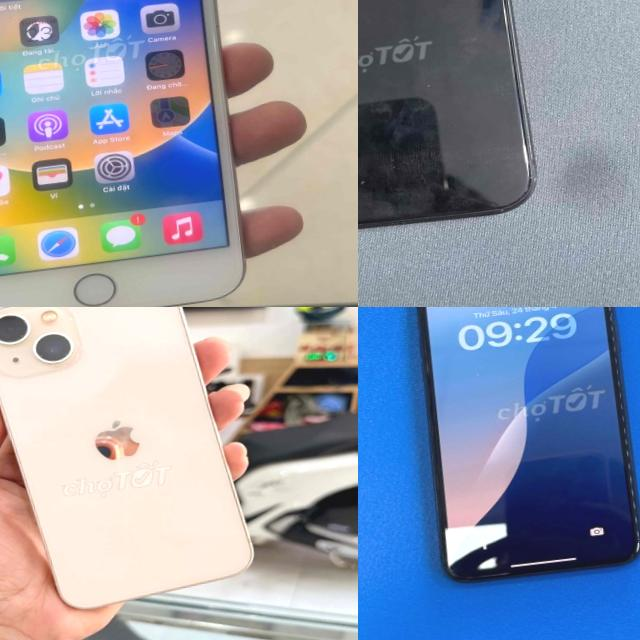scratch: (0, 0, 269, 307), (358, 177, 364, 186)
